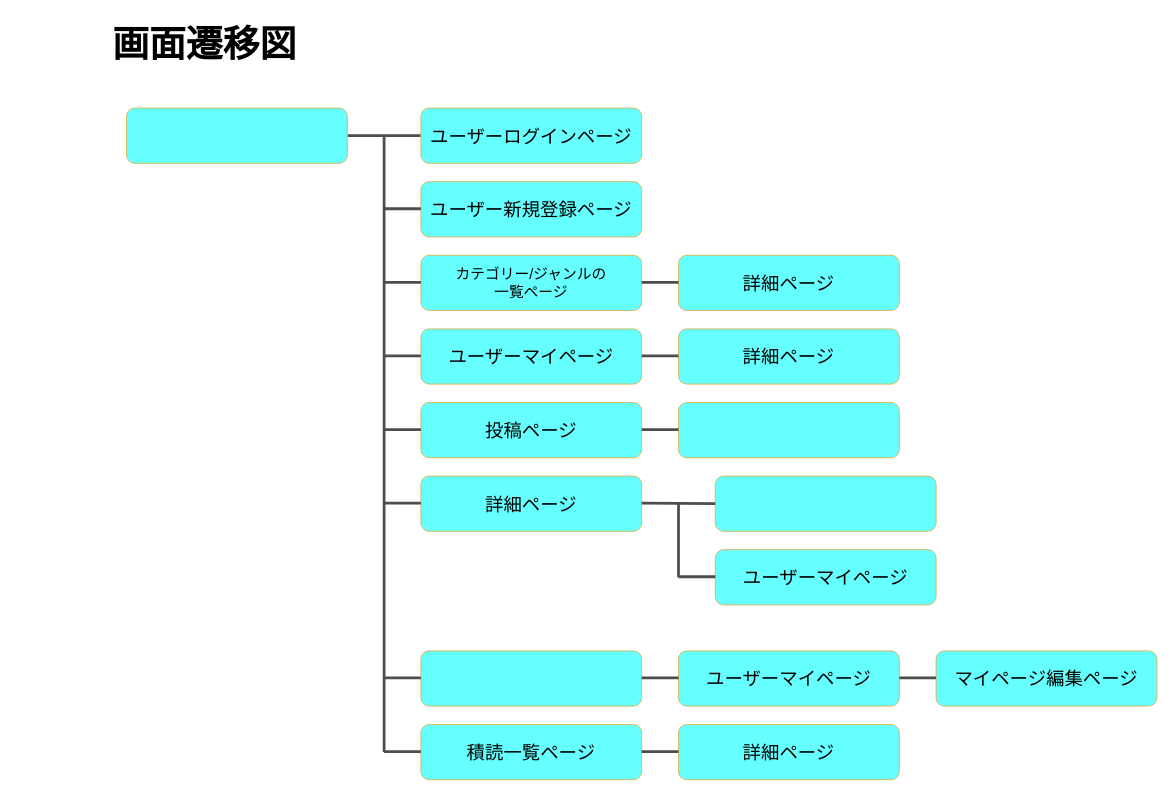
Image size: 1173x796. Some labels were removed from this diagram. The centre of each missing label's shape, as x and y in pixels:
"トップページ （一覧ページ）" goes at (x=236, y=135).
"フォロー/フォロワー 一覧ページ" goes at (x=531, y=678).
"下書き一覧ページ" goes at (x=788, y=430).
"編集ページ" goes at (x=825, y=503).
